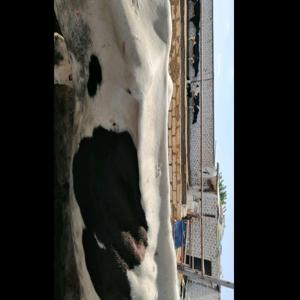lumpy skin diesease: (52, 0, 188, 299)
